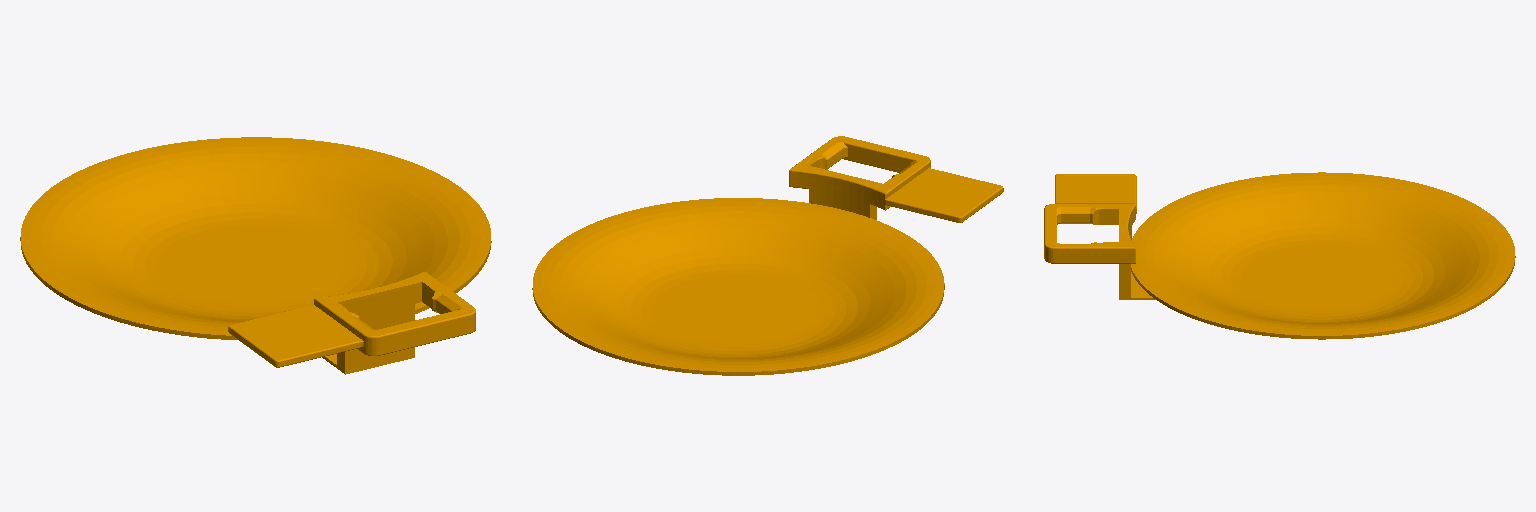
The robot description file, URDF, robot "plate":
<?xml version="1.0" ?>
<robot name="plate">
  <link name="plate">
    <inertial>
      <origin rpy="0 0 0" xyz="0 0 0"/>
      <mass value="1.0"/>
      <inertia ixx="1.821E-05" ixy="-4.1084E-09" ixz="-1.448E-07" iyy="1.062E-05" iyz="-1.5136E-09" izz="1.0557E-05"/>
    </inertial>
    <visual>
      <origin rpy="0 0 0" xyz="0 0 0"/>
      <geometry>
        <mesh filename="plate_with_holder.obj"/>
      </geometry>
    </visual>
    <collision>
      <origin rpy="0 0 0" xyz="0 0 0"/>
      <geometry>
        <mesh filename="plate_with_holder.obj"/>
      </geometry>
    </collision>
  </link>
</robot>

--- Render facts (derived) ---
3 views of the same robot in one strip: view 1: azimuth 30°, elevation 25°; view 2: azimuth 150°, elevation 25°; view 3: azimuth 270°, elevation 25° (orthographic).
Model plate with 1 links and 0 joints (none), rooted at plate, posed all joints at 0.
Links seen in each view (by area): view 1: plate; view 2: plate; view 3: plate.
Link boxes in pixels (bbox=[...]): plate: bbox=[20, 137, 491, 374]; plate: bbox=[532, 136, 1003, 375]; plate: bbox=[1044, 172, 1515, 339].
Size in the robot's own frame: 0.2981 by 0.3628 by 0.0517 metres.
1 mesh visuals loaded from 1 distinct referenced files (1 OBJ).